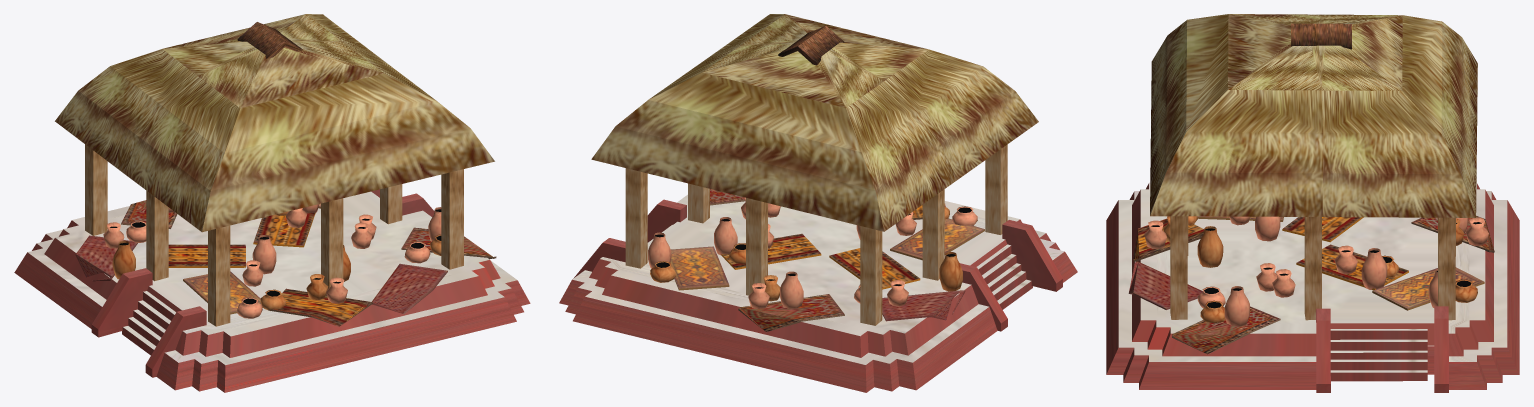
Rendered from quiosque_1.dae.
The picture shows the model from 3 angles, left to right: view 1: azimuth 30°, elevation 25°; view 2: azimuth 150°, elevation 25°; view 3: azimuth 270°, elevation 25°; orthographic projection. The views are drawn at different scales.
Visible parts, largest first — view 1: quiosque_1; view 2: quiosque_1; view 3: quiosque_1.
Part boxes in pixels (bbox=[...]): quiosque_1: bbox=[14, 14, 530, 392]; quiosque_1: bbox=[559, 14, 1077, 392]; quiosque_1: bbox=[1106, 14, 1519, 392].
Size of the model in its own units: 14.95 by 13.54 by 10.01.
Materials: 1 (1 with a texture image).
